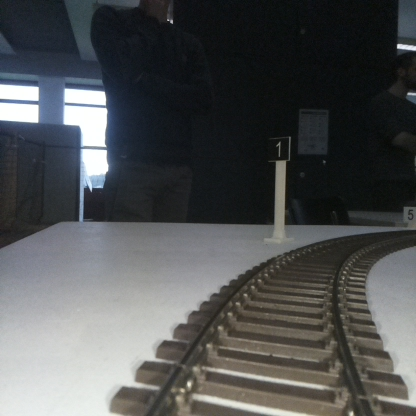black-info-1: (269, 136, 288, 238)
black-stop-5: (403, 205, 416, 228)
